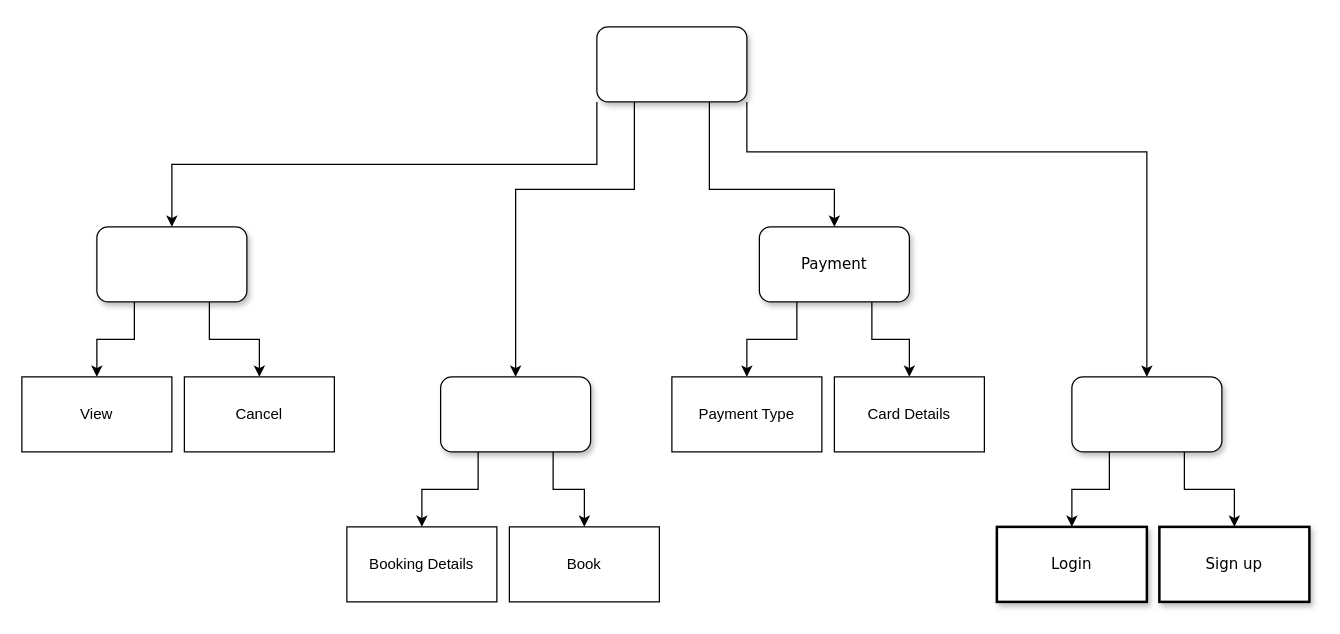
Some shapes in this 1340 by 634 pixel diagram are drawn without their labels. Here are the shapes that lost their labels. From the top down, the centre of each, then its label:
At point 672,66: "Movie ticket booking system".
At point 172,266: "Managing Bookings".
At point 516,416: "Booking Tickets".
At point 1147,416: "Registration".
